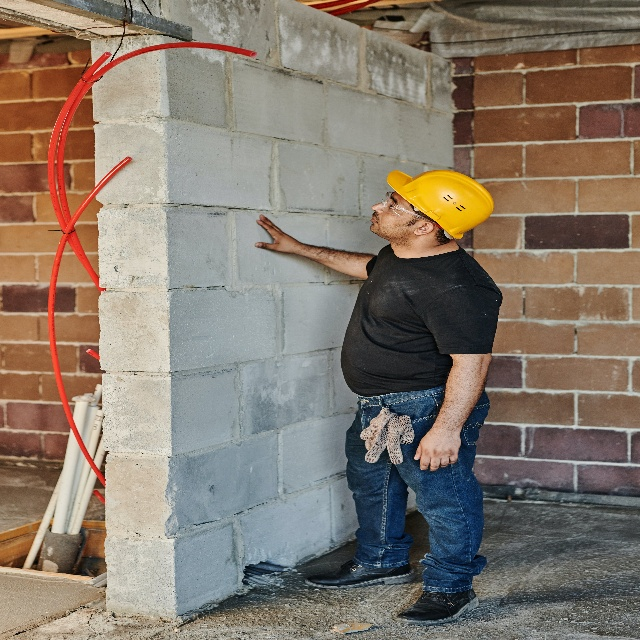Gafas: (381, 191, 443, 231)
Guantes: (360, 407, 415, 465)
Sin_guantes: (413, 424, 461, 472), (254, 214, 294, 254)
